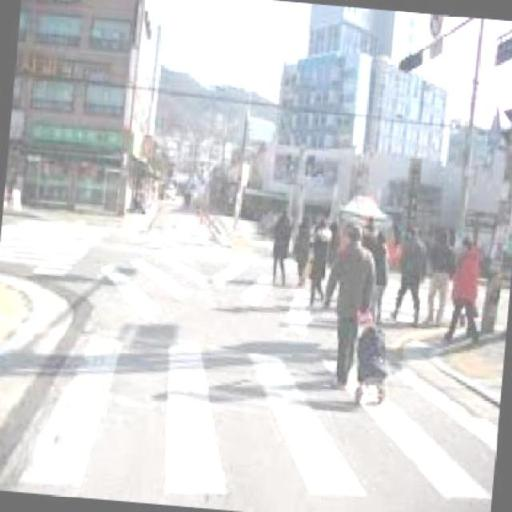pessoa: (329, 221, 380, 394), (442, 232, 488, 346), (392, 224, 431, 329), (424, 227, 458, 330), (306, 215, 336, 309), (268, 208, 294, 288), (291, 212, 314, 289)
